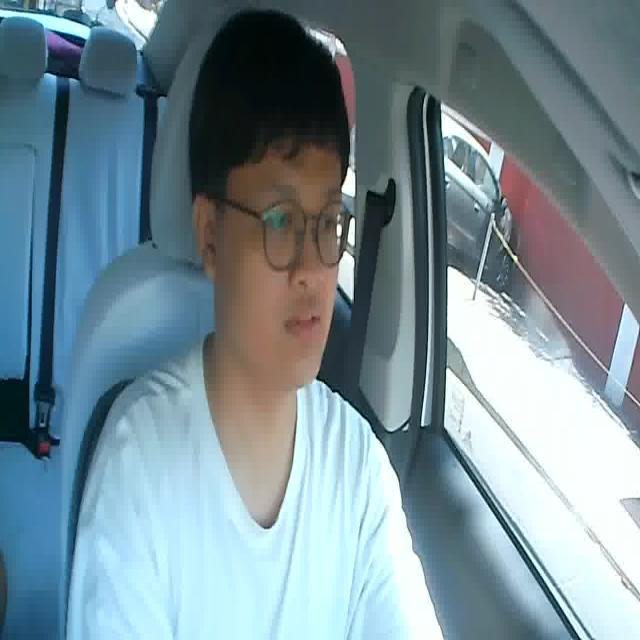Attentive: (190, 7, 353, 393)
Eye-Open: (270, 208, 297, 238), (318, 212, 337, 238)
Normal: (284, 307, 320, 342)
